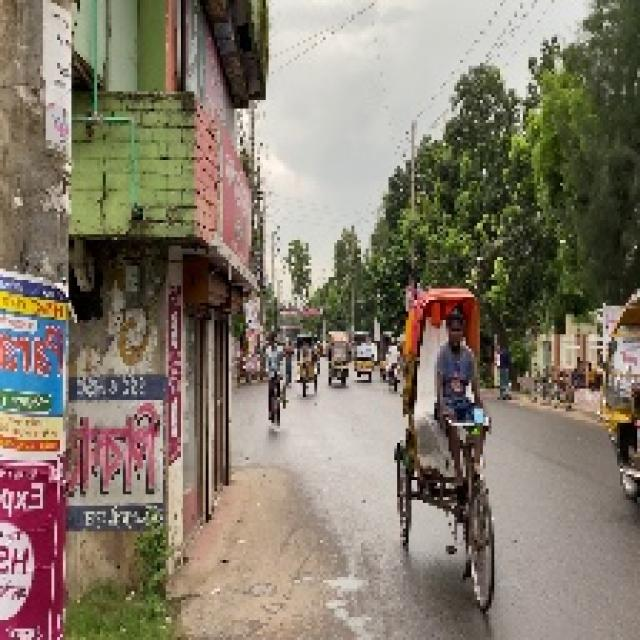bike: (387, 357, 401, 396)
rickshaw: (403, 271, 500, 598), (295, 332, 316, 397), (329, 333, 349, 387), (353, 331, 373, 382)
